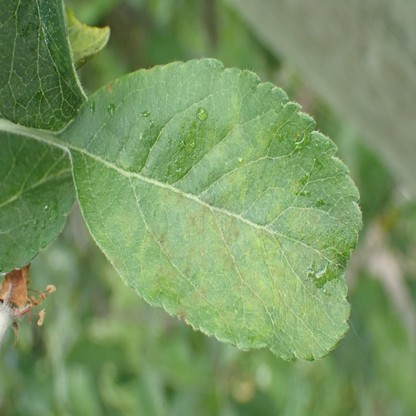scab: (100, 94, 350, 361)
